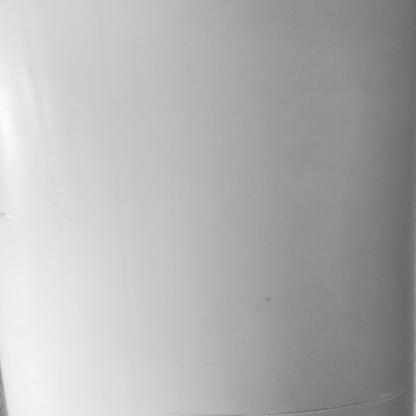sunshang: (153, 383, 407, 414)
